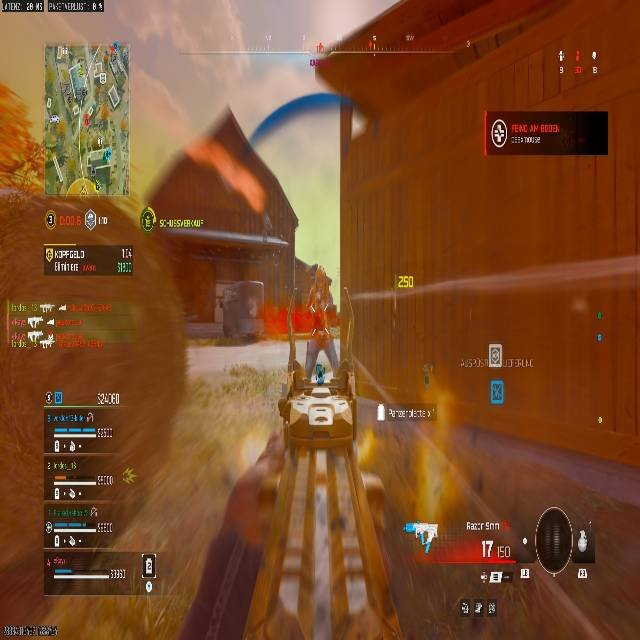player: (314, 360, 326, 384)
